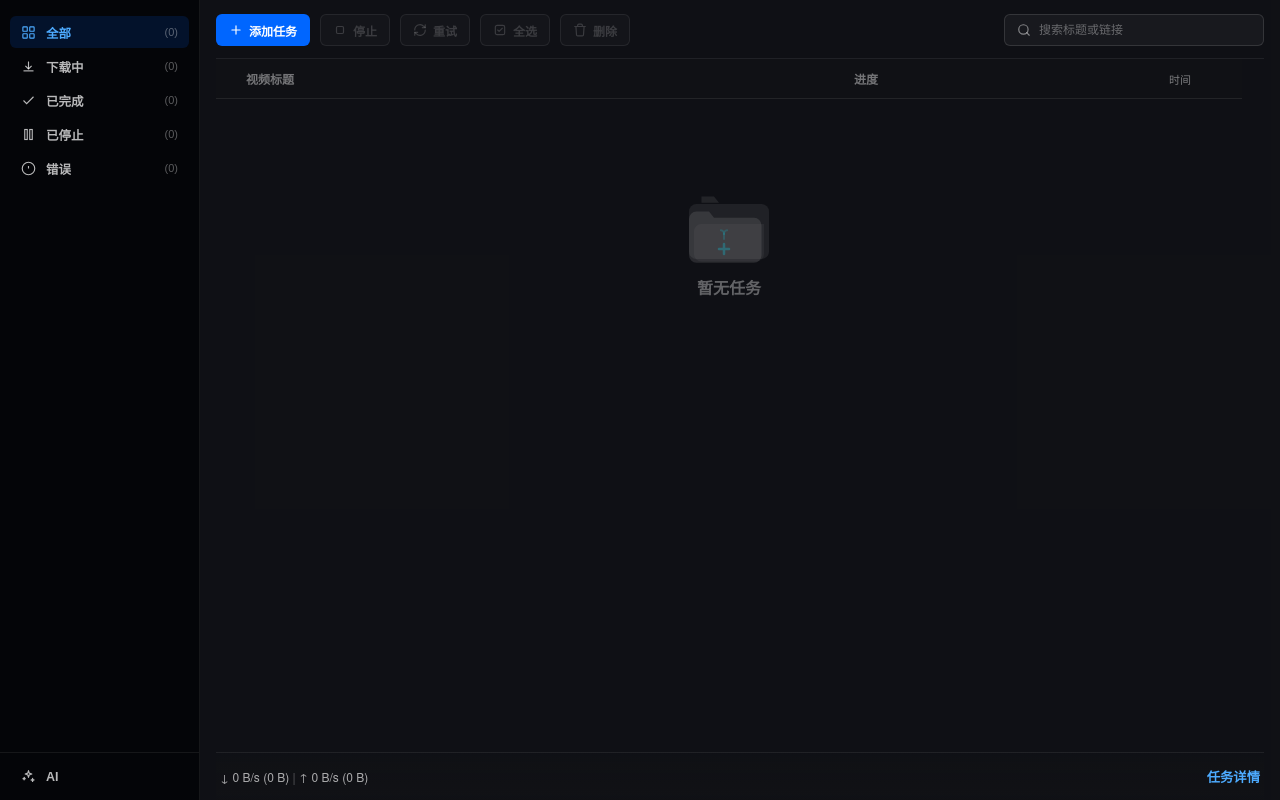
Scenario: DownloaderApp interactions › keeps short-video dropdown labels readable and disables subtitles
The width and height of the screenshot is (1280, 800).
Click the button "添加任务": (263, 30) [216,14,310,46]
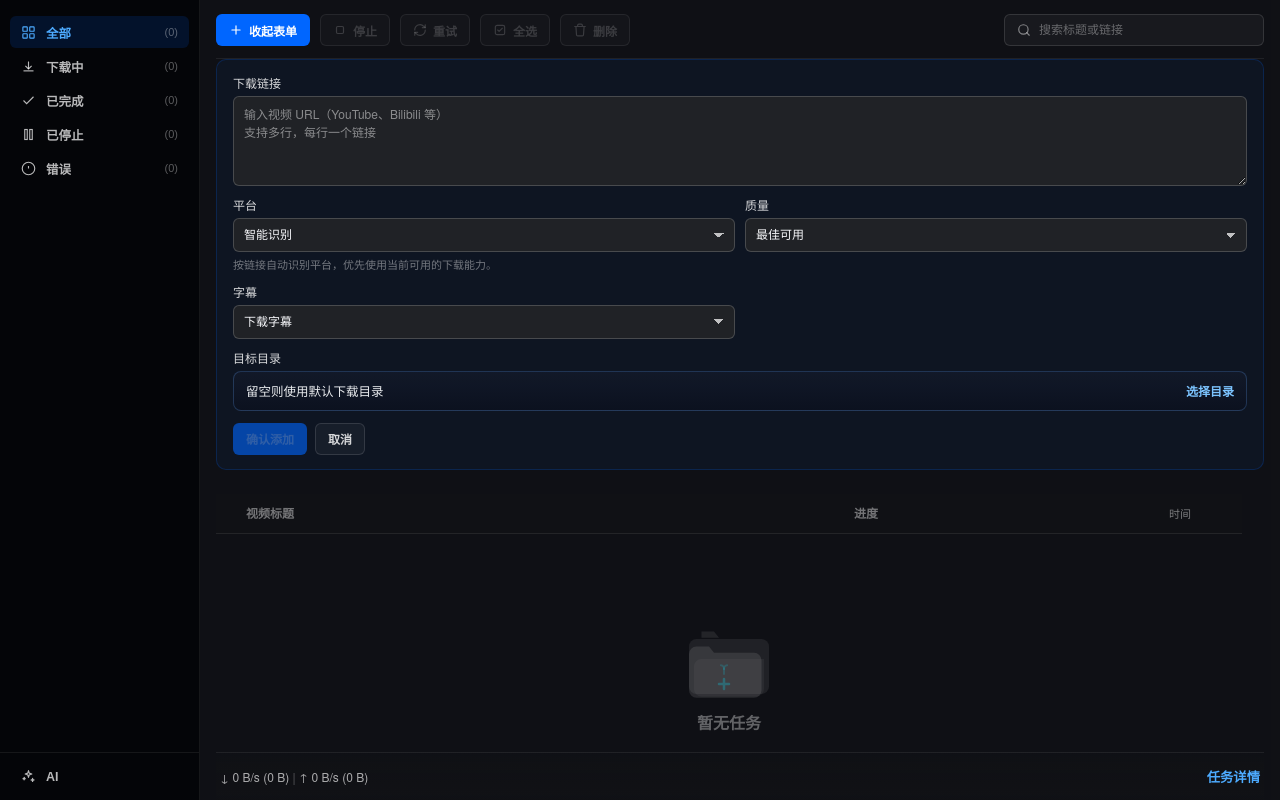
Select "短视频平台" in the 1st dropdown: (484, 235) [233,218,735,252]
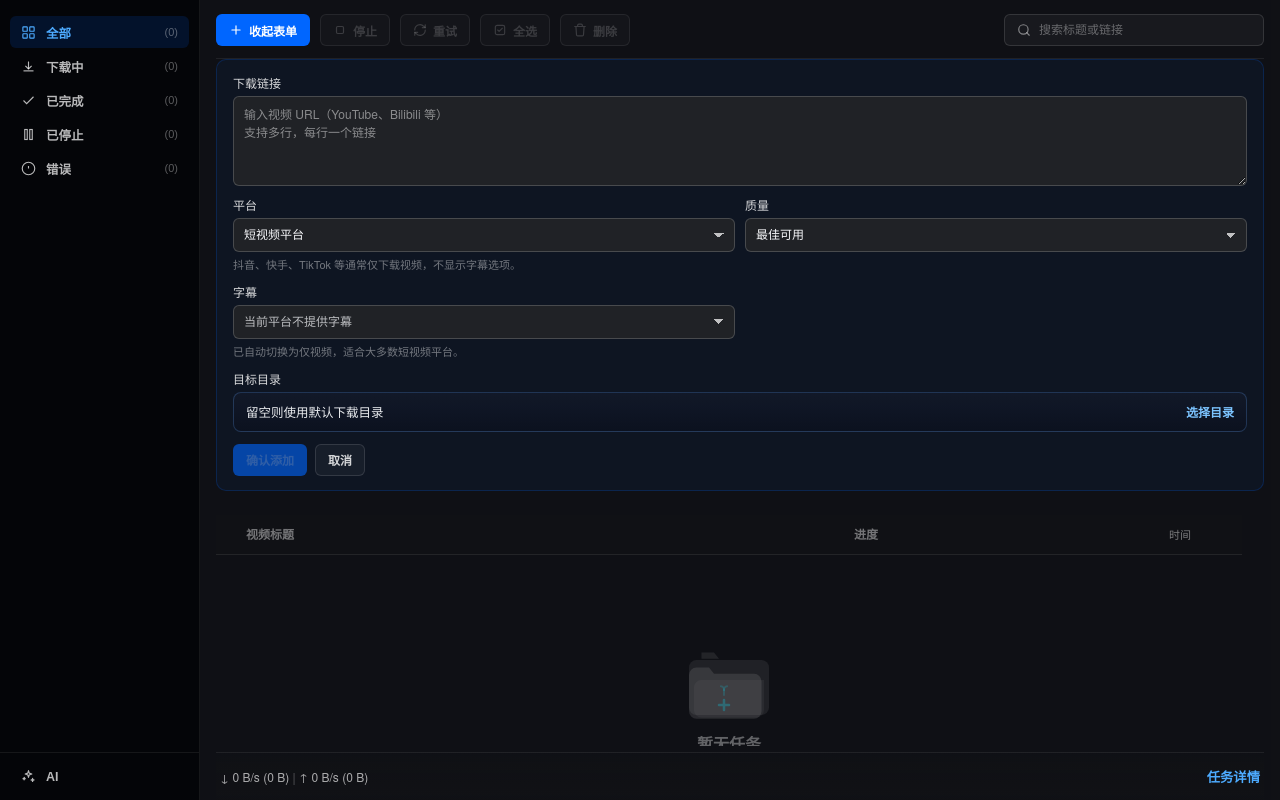
Result: the text "已自动切换为仅视频，适合大多数短视频平台。" is shown at [233,343,464,359]
